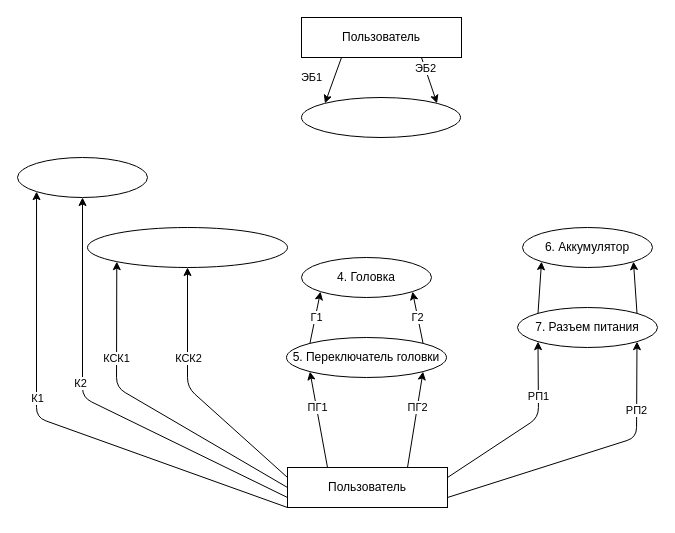
This 675x533 diagram has some shape labels left out. The shapes that lost their labels are listed below. From the top down, each one's centre as x and y in pixels, then its label:
At (x=380, y=117): "1. Электробритва".
At (x=82, y=177): "2. Кассета".
At (x=187, y=247): "3. Кнопки для снятия кассеты".
